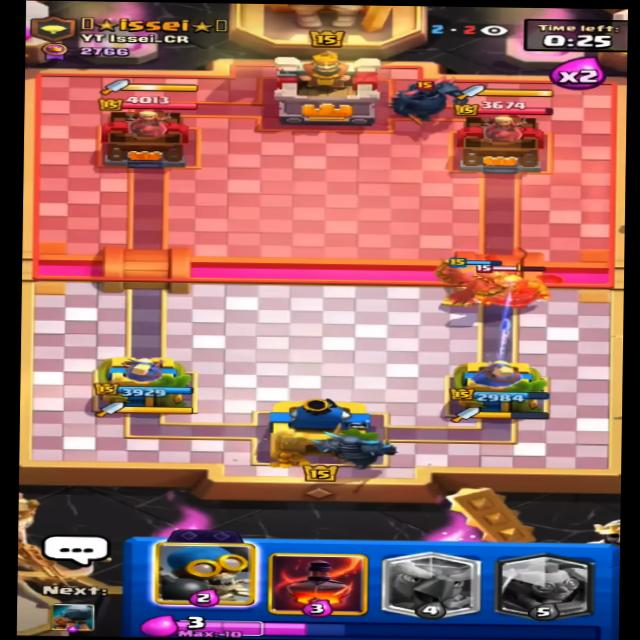goblin-demolisher: (472, 263, 565, 312)
pekka: (388, 74, 478, 130)
